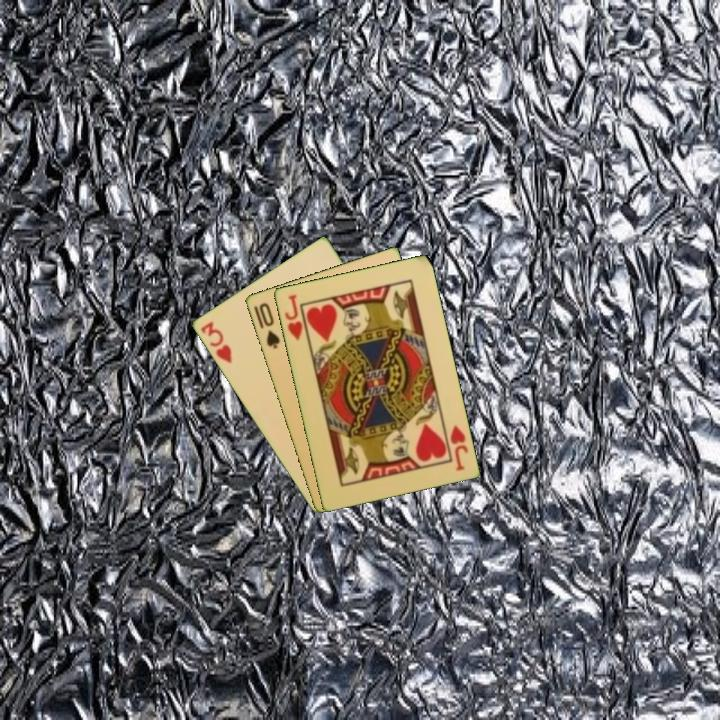10s: (255, 299, 283, 352)
3h: (197, 318, 235, 366)
Jh: (281, 291, 311, 345), (446, 421, 471, 474)
